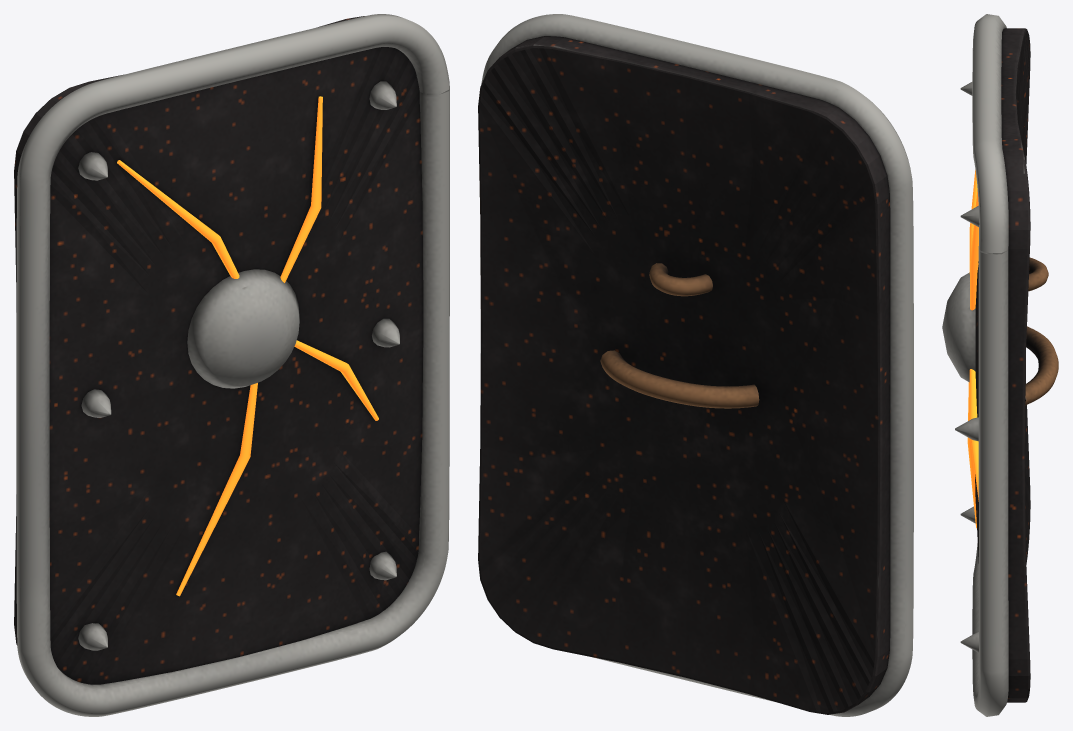
The model's file is arma_escudo_escoria.glb.
3 views of the same model, side by side, from view 1: azimuth 30°, elevation 25°; view 2: azimuth 150°, elevation 25°; view 3: azimuth 270°, elevation 25° (orthographic). The views are drawn at different scales.
Visible parts, largest first — view 1: arma_escudo_escoria, racha1, racha3, racha0, racha2; view 2: arma_escudo_escoria; view 3: arma_escudo_escoria, racha2, racha3, racha1, racha0.
Boxes of the visible parts, x1,y1,x2,y2 form: arma_escudo_escoria: (14, 14, 449, 716); racha1: (176, 383, 257, 596); racha3: (280, 96, 322, 282); racha0: (117, 160, 239, 278); racha2: (294, 340, 378, 420); arma_escudo_escoria: (478, 14, 913, 716); arma_escudo_escoria: (942, 14, 1058, 716); racha2: (969, 369, 978, 501); racha3: (970, 189, 978, 310); racha1: (967, 382, 976, 528); racha0: (969, 170, 977, 273).
Size of the model in its own units: 0.5353 by 0.7546 by 0.139.
Materials: 5 (1 with a texture image).
